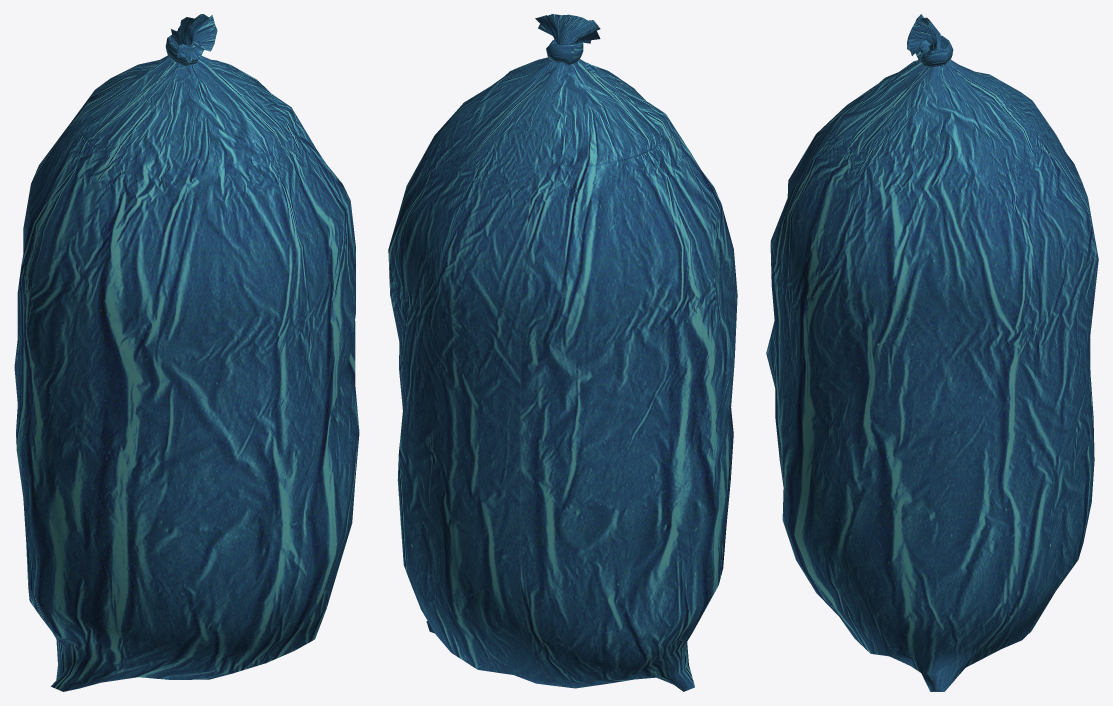
File: !trashbag_0.fbx
The picture shows the model from 3 angles, left to right: view 1: azimuth 30°, elevation 25°; view 2: azimuth 150°, elevation 25°; view 3: azimuth 270°, elevation 25°; orthographic projection. The views are drawn at different scales.
Parts seen in each view (by area): view 1: trashBag_GEO; view 2: trashBag_GEO, trashBagKnot_GEO; view 3: trashBag_GEO, trashBagKnot_GEO.
Part boxes in pixels (box(x1,y1,x2,y2)): trashBag_GEO: box(14, 14, 359, 691); trashBag_GEO: box(388, 14, 737, 691); trashBagKnot_GEO: box(546, 39, 583, 65); trashBag_GEO: box(766, 14, 1098, 691); trashBagKnot_GEO: box(919, 35, 953, 67).
Bounding box in the file's own units: 73.85 × 151 × 73.93.
1 material, 1 textured.
